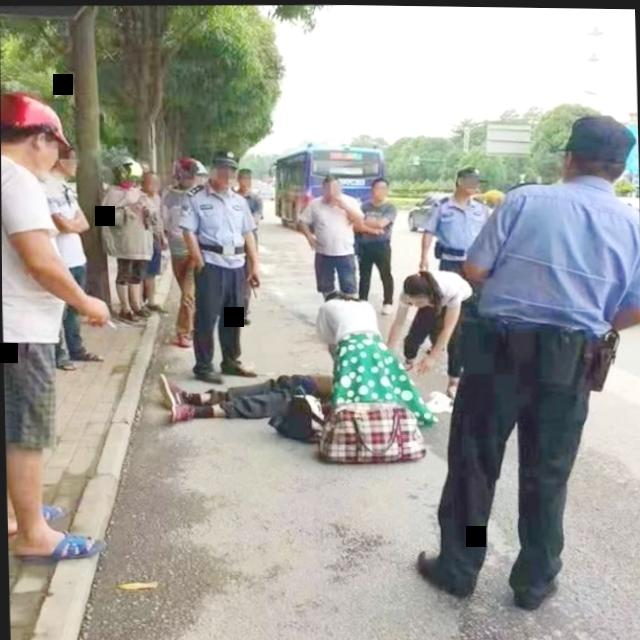Fall-Detected: (141, 348, 423, 449)
